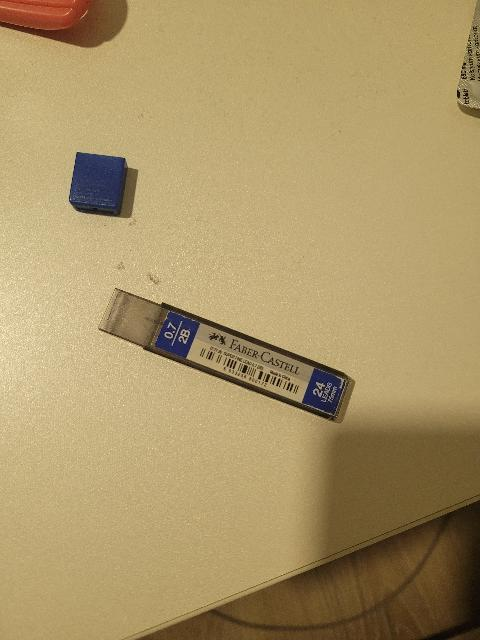Plastik: (98, 286, 358, 429), (66, 151, 136, 225)
